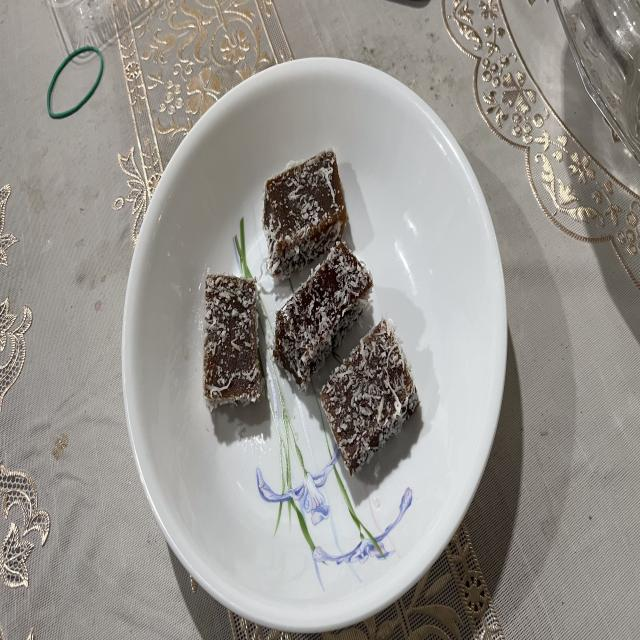kaswi: (321, 318, 419, 476), (274, 242, 372, 391), (262, 151, 348, 280), (204, 276, 260, 407)
